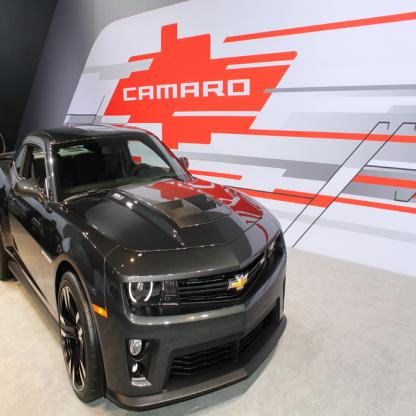Car: (0, 121, 287, 412)
